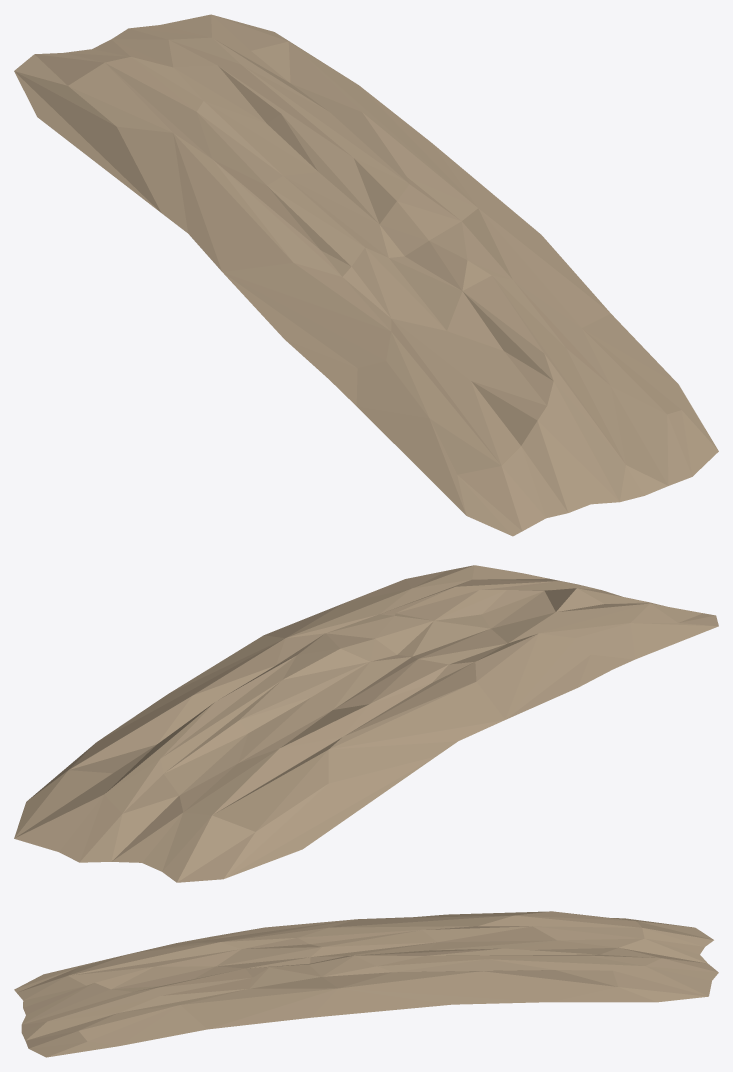
The model's file is SM_Env_DirtRoad_Slope_Down_01.glb.
The picture shows the model from 3 angles, top to bottom: view 1: azimuth 30°, elevation 25°; view 2: azimuth 150°, elevation 25°; view 3: azimuth 270°, elevation 25°; orthographic projection. The views are drawn at different scales.
Parts seen in each view (by area): view 1: SM_Env_DirtRoad_Slope_Down_01; view 2: SM_Env_DirtRoad_Slope_Down_01; view 3: SM_Env_DirtRoad_Slope_Down_01.
Part boxes in pixels (left/top/right/bottom): SM_Env_DirtRoad_Slope_Down_01: left=14, top=14, right=718, bottom=536; SM_Env_DirtRoad_Slope_Down_01: left=14, top=565, right=718, bottom=882; SM_Env_DirtRoad_Slope_Down_01: left=14, top=911, right=718, bottom=1057.
Bounding box in the file's own units: 2.68 × 1.12 × 8.31.
Materials: 1 (1 with a texture image).
